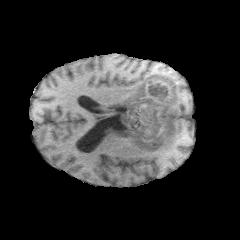glioma: (114, 73, 180, 152)
